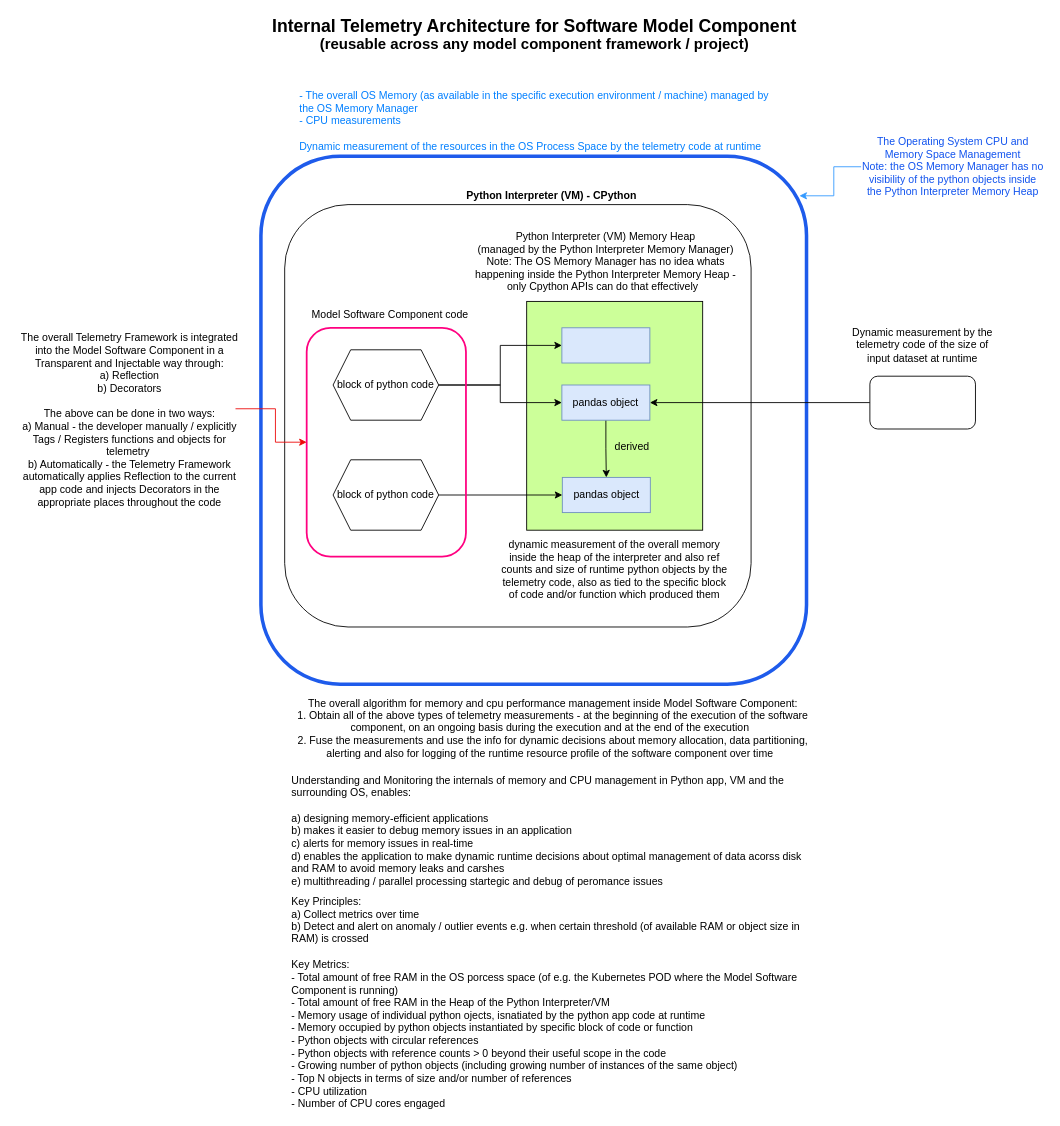
The diagram is 1060 pixels wide and 1126 high, and some of its shapes have lost their labels. Here are the shapes that lost their labels. From the top down, the centre of each, then its label:
At [605,345]: "int object".
At [922,402]: "input dataset size (e.g. on disk)".
